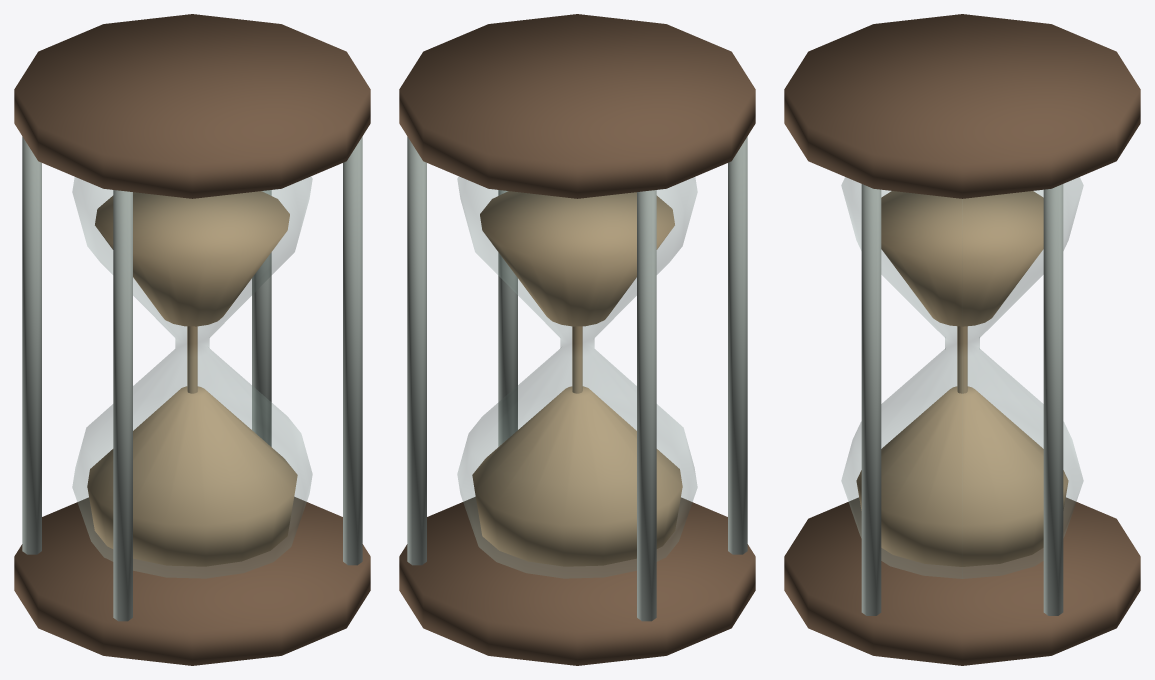
The model's file is sablier-reunion-v01.glb.
The picture shows the model from 3 angles, left to right: view 1: azimuth 30°, elevation 25°; view 2: azimuth 150°, elevation 25°; view 3: azimuth 270°, elevation 25°; orthographic projection.
Parts seen in each view (by area): view 1: Ampoule de verre soufflé, Socle du sablier.001, Socle du sablier, Sable déjà écoulé, Sable restant, Colonne du sablier.002, Colonne du sablier.003, Colonne du sablier, Colonne du sablier.001, Filet de sable; view 2: Ampoule de verre soufflé, Socle du sablier.001, Socle du sablier, Sable déjà écoulé, Sable restant, Colonne du sablier, Colonne du sablier.001, Colonne du sablier.002, Colonne du sablier.003, Filet de sable; view 3: Ampoule de verre soufflé, Socle du sablier.001, Socle du sablier, Sable déjà écoulé, Sable restant, Colonne du sablier.001, Colonne du sablier.003, Filet de sable.
Part boxes in pixels (x1,y1,x2,y2): Ampoule de verre soufflé: (72, 176, 312, 578); Socle du sablier.001: (14, 14, 370, 198); Socle du sablier: (14, 497, 370, 665); Sable déjà écoulé: (87, 386, 297, 566); Sable restant: (95, 191, 289, 326); Colonne du sablier.002: (113, 190, 132, 621); Colonne du sablier.003: (343, 136, 362, 565); Colonne du sablier: (22, 136, 41, 554); Colonne du sablier.001: (252, 190, 271, 446); Filet de sable: (187, 326, 197, 393); Ampoule de verre soufflé: (457, 176, 697, 578); Socle du sablier.001: (399, 14, 755, 198); Socle du sablier: (399, 497, 755, 665); Sable déjà écoulé: (472, 386, 682, 566); Sable restant: (480, 191, 674, 326); Colonne du sablier: (637, 190, 656, 621); Colonne du sablier.001: (407, 136, 426, 565); Colonne du sablier.002: (728, 136, 747, 554); Colonne du sablier.003: (498, 190, 517, 446); Filet de sable: (572, 326, 582, 393); Ampoule de verre soufflé: (841, 177, 1083, 578); Socle du sablier.001: (784, 14, 1140, 198); Socle du sablier: (784, 497, 1140, 665); Sable déjà écoulé: (856, 386, 1068, 566); Sable restant: (881, 191, 1043, 326); Colonne du sablier.001: (1043, 184, 1063, 615); Colonne du sablier.003: (861, 184, 881, 615); Filet de sable: (957, 326, 967, 393).
Size of the model in its own units: 0.47 by 0.73 by 0.47.
